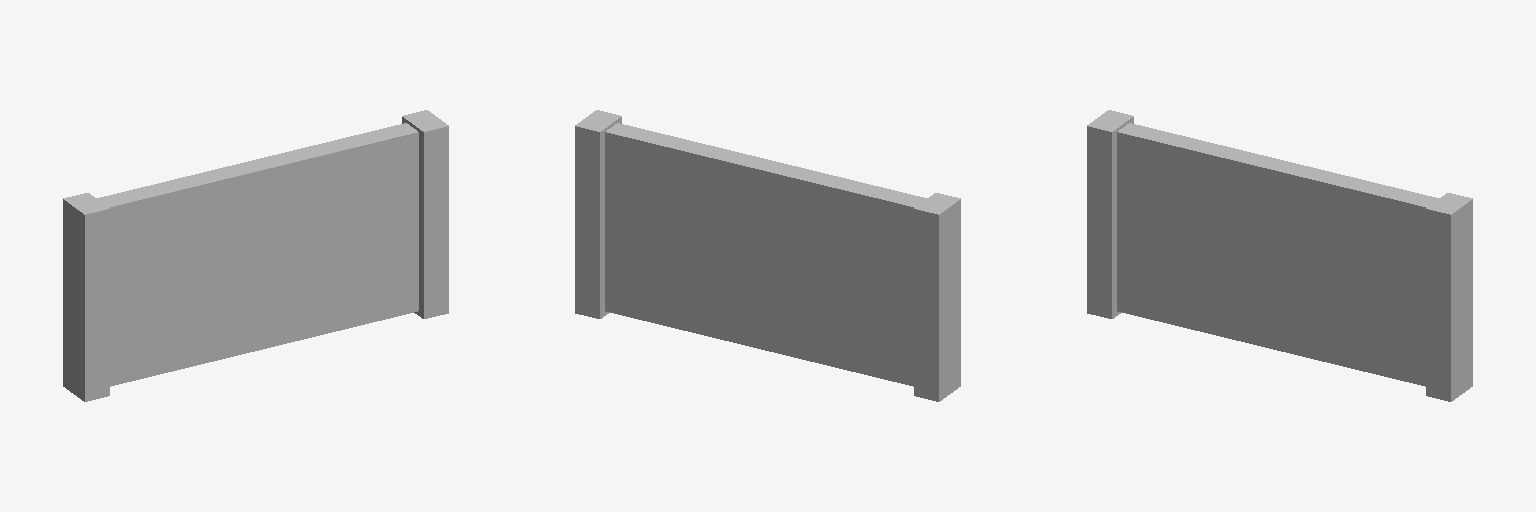
The model's file is Sign.obj.
3 views of the same model, side by side, from view 1: azimuth 30°, elevation 25°; view 2: azimuth 150°, elevation 25°; view 3: azimuth 330°, elevation 25° (orthographic).
Visible parts, largest first — view 1: cube; view 2: cube; view 3: cube.
Part boxes in pixels (x1,y1,x2,y2): cube: (63,110,448,401); cube: (575,110,960,401); cube: (1087,110,1472,401).
Size of the model in its own units: 1.78 by 0.875 by 0.1875.